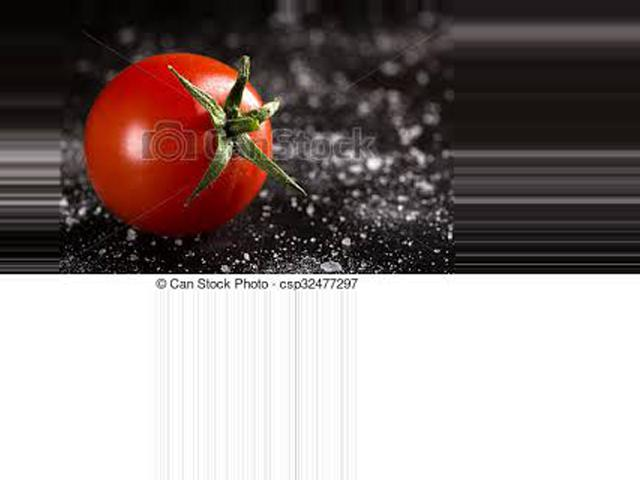tomato: (84, 52, 272, 234)
